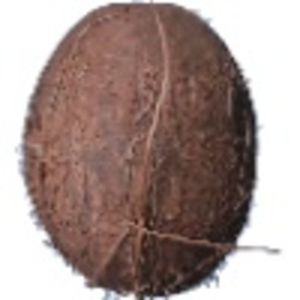coco: (16, 1, 262, 300)
